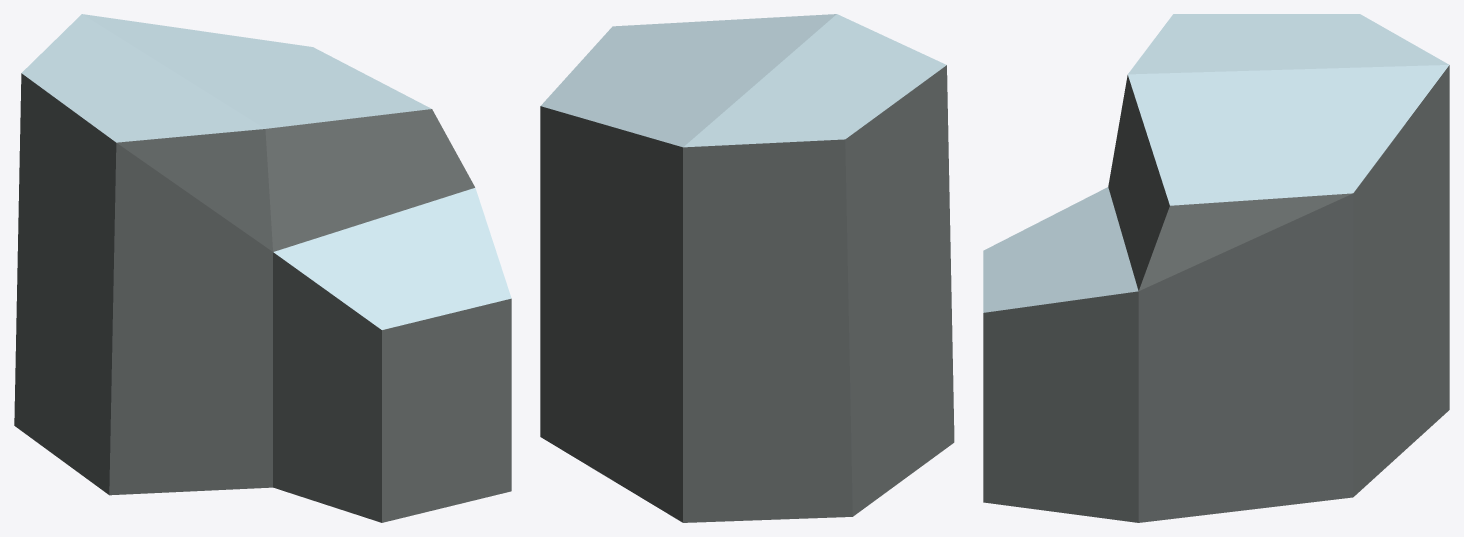
Rendered from SM_Env_Generic_Cliffs_03_Snow.glb.
The picture shows the model from 3 angles, left to right: view 1: azimuth 30°, elevation 25°; view 2: azimuth 150°, elevation 25°; view 3: azimuth 270°, elevation 25°; orthographic projection. The views are drawn at different scales.
Visible parts, largest first — view 1: SM_Env_Generic_Cliffs_03_Snow; view 2: SM_Env_Generic_Cliffs_03_Snow; view 3: SM_Env_Generic_Cliffs_03_Snow.
Boxes of the visible parts, x1=… form: SM_Env_Generic_Cliffs_03_Snow: x1=14, y1=14, x2=511, y2=522; SM_Env_Generic_Cliffs_03_Snow: x1=540, y1=14, x2=954, y2=522; SM_Env_Generic_Cliffs_03_Snow: x1=983, y1=14, x2=1449, y2=522.
Bounding box in the file's own units: 0.5968 × 0.5743 × 0.7031.
1 material, 1 textured.
